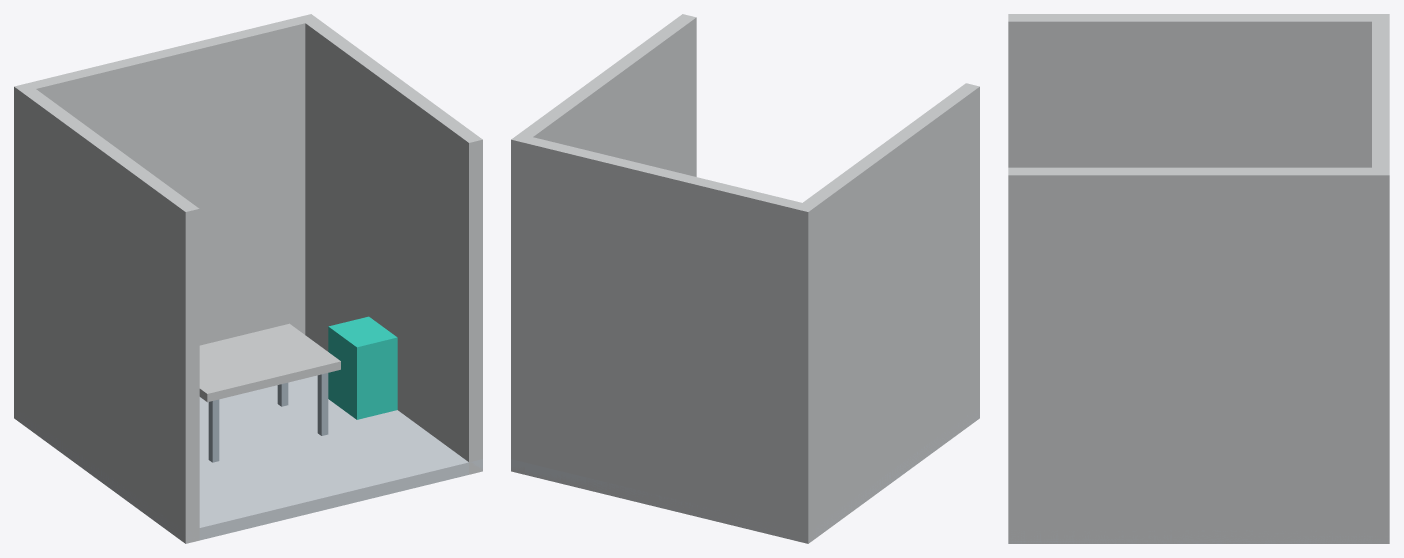
3 views of the same model, side by side, from view 1: azimuth 30°, elevation 25°; view 2: azimuth 150°, elevation 25°; view 3: azimuth 270°, elevation 25° (orthographic). The views are drawn at different scales.
Parts seen in each view (by area): view 1: Exhibition Booth Concept; view 2: Exhibition Booth Concept; view 3: Exhibition Booth Concept.
Boxes of the visible parts, left/top/right/bottom form: Exhibition Booth Concept: left=14, top=14, right=482, bottom=543; Exhibition Booth Concept: left=511, top=14, right=979, bottom=543; Exhibition Booth Concept: left=1008, top=14, right=1389, bottom=543.
Bounding box in the file's own units: 3 × 3.2 × 3.
